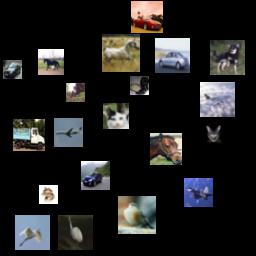airplane: (200, 82, 235, 117), (184, 178, 213, 207), (54, 118, 83, 147)
automobile: (155, 38, 190, 73), (131, 1, 163, 33), (81, 161, 110, 190), (3, 60, 22, 79)
bird: (118, 196, 156, 234), (15, 215, 50, 250), (58, 215, 93, 250)
cat: (103, 103, 129, 129), (201, 122, 227, 148), (130, 76, 149, 95), (39, 185, 58, 204), (66, 83, 85, 102)
dog: (210, 40, 245, 75)
truck: (13, 119, 45, 151)
